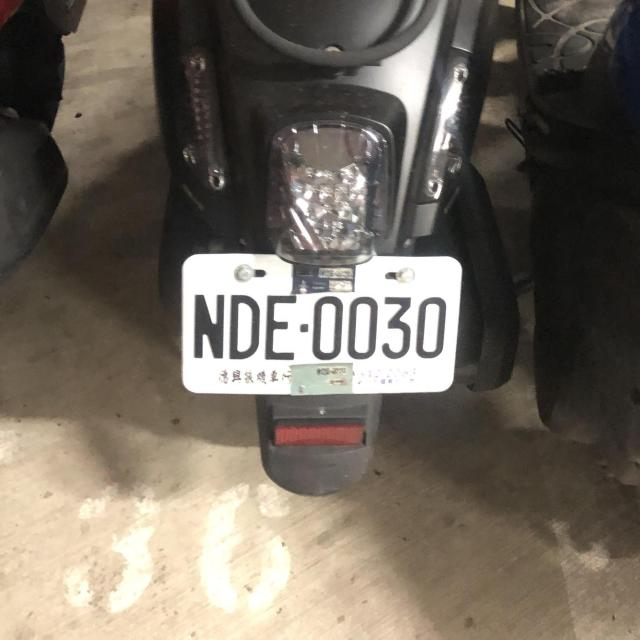W: (173, 245, 464, 400)
